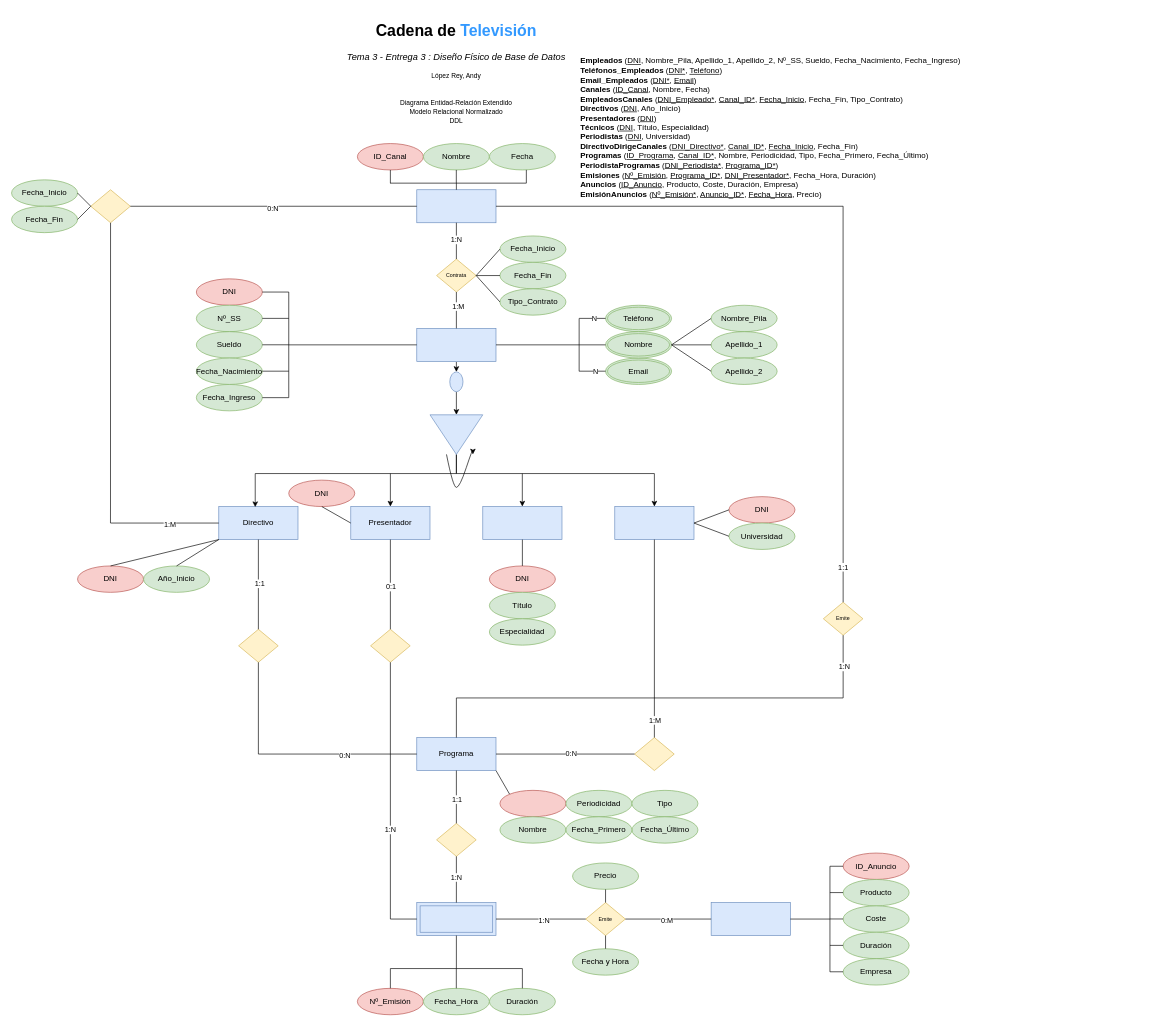
The diagram is 1158 pixels wide and 1026 high, and some of its shapes have lost their labels. Here are the shapes that lost their labels. From the top down, the centre of each, then its label:
the point at 110,206: Dirige
the point at 456,206: Canal
the point at 456,344: Empleado
the point at 522,523: Técnico
the point at 654,523: Periodista
the point at 258,645: Produce
the point at 390,645: Presenta
the point at 654,754: Trabaja
the point at 532,803: ID_Programa
the point at 456,839: Pertenece
the point at 456,919: Emisión
the point at 750,919: Anuncio
